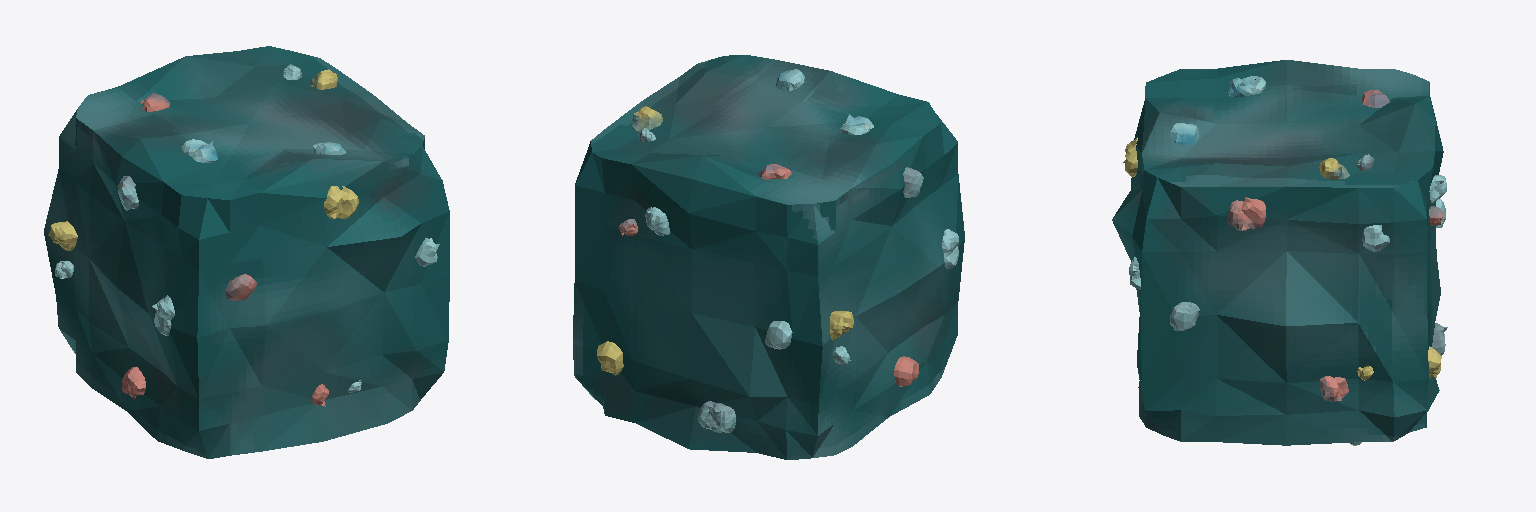
The picture shows the model from 3 angles: view 1: azimuth 30°, elevation 25°; view 2: azimuth 150°, elevation 25°; view 3: azimuth 270°, elevation 25°; orthographic projection.
Visible parts, largest first — view 1: Cube, 立方体.022, 立方体.002, 立方体.016, 立方体.017, 立方体.024, 立方体.018, 立方体.019; view 2: Cube, 立方体.012, 立方体.013, 立方体.014, 立方体.018, 立方体.003, 立方体.017, 立方体.016; view 3: Cube, 立方体.007, 立方体.009, 立方体.002, 立方体.006, 立方体.008, 立方体.
Part boxes in pixels (bbox=[...]): Cube: bbox=[44, 46, 449, 458]; 立方体.022: bbox=[324, 186, 358, 219]; 立方体.002: bbox=[181, 139, 218, 162]; 立方体.016: bbox=[48, 221, 77, 250]; 立方体.017: bbox=[152, 295, 174, 335]; 立方体.024: bbox=[225, 274, 256, 300]; 立方体.018: bbox=[122, 367, 145, 399]; 立方体.019: bbox=[117, 176, 138, 210]; Cube: bbox=[573, 55, 964, 459]; 立方体.012: bbox=[698, 401, 735, 432]; 立方体.013: bbox=[597, 341, 623, 375]; 立方体.014: bbox=[765, 321, 792, 349]; 立方体.018: bbox=[894, 356, 918, 386]; 立方体.003: bbox=[632, 106, 662, 130]; 立方体.017: bbox=[942, 229, 958, 268]; 立方体.016: bbox=[830, 311, 853, 339]; Cube: bbox=[1112, 60, 1443, 445]; 立方体.007: bbox=[1227, 197, 1265, 230]; 立方体.009: bbox=[1170, 302, 1199, 330]; 立方体.002: bbox=[1227, 76, 1265, 96]; 立方体.006: bbox=[1320, 376, 1348, 401]; 立方体.008: bbox=[1362, 225, 1389, 251]; 立方体: bbox=[1170, 123, 1199, 144].
Size of the model in its own units: 18.82 by 18.67 by 18.87.
Materials: 1 (1 with a texture image).